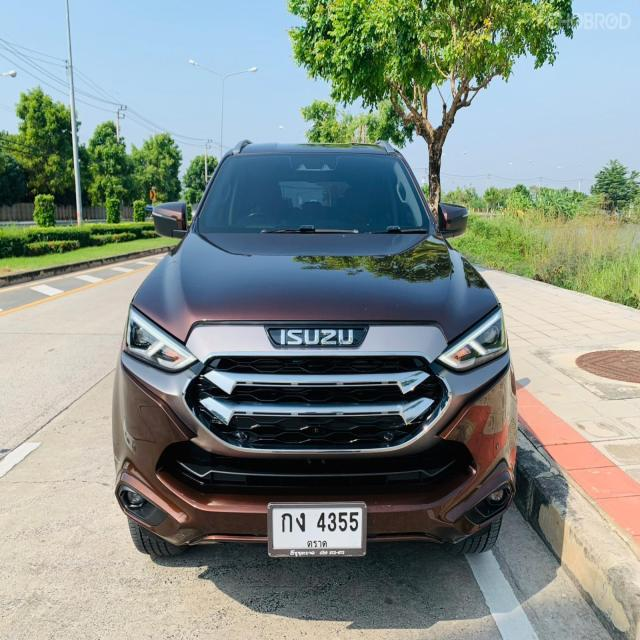license_plate: (264, 492, 370, 564)
